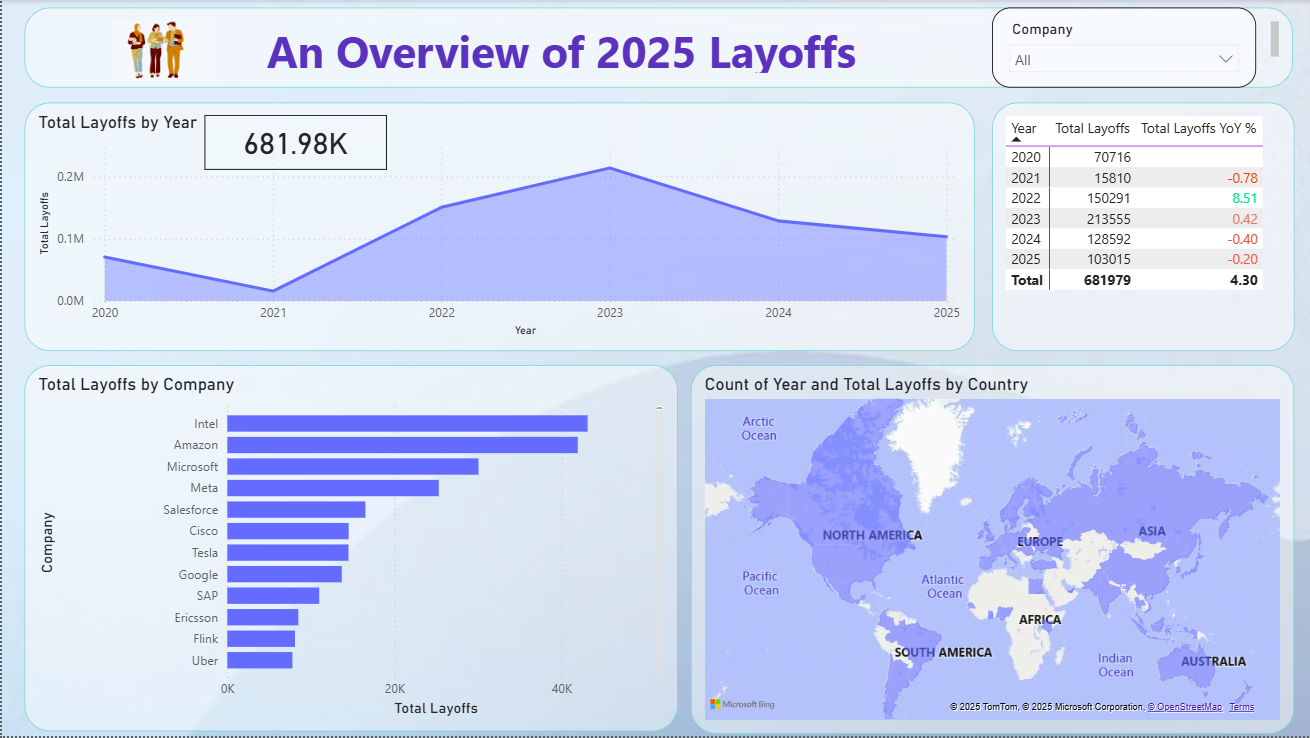

The dashboard page shown, as its layout file describes it:
{"tool":"powerbi","page":{"name":"LayOffs","canvas":[1280,720],"ordinal":0},"visuals":[{"type":"lineChart","fields":{"Category":["cleaned_layoffs_2025 csv.Year"],"Y":["cleaned_layoffs_2025 csv.Total Layoffs"]},"box":[22,100.3,929.4,243.3],"z":0},{"type":"pivotTable","fields":{"Values":["cleaned_layoffs_2025 csv.Total Layoffs","cleaned_layoffs_2025 csv.Total Layoffs % difference from 2025"],"Rows":["cleaned_layoffs_2025 csv.Year"]},"box":[968.5,100.3,295.9,243.3],"z":1000},{"type":"clusteredBarChart","fields":{"Y":["cleaned_layoffs_2025 csv.Total Layoffs"],"Category":["cleaned_layoffs_2025 csv.Company"]},"box":[22,357.1,639.5,358.3],"z":2000},{"type":"textbox","box":[22,7.3,1241.2,78.3],"z":3000},{"type":"filledMap","fields":{"Category":["cleaned_layoffs_2025 csv.Country"]},"box":[673.8,357.1,590.6,360.7],"z":4000},{"type":"image","box":[78.3,19.6,160.2,58.7],"z":5000},{"type":"slicer","fields":{"Values":["cleaned_layoffs_2025 csv.Company"]},"box":[968.5,7.3,258,78.3],"z":6000},{"type":"card","fields":{"Values":["cleaned_layoffs_2025 csv.Total Layoffs"]},"box":[198.1,112.5,178.5,53.8],"z":6001}]}

Visuals, with their boxes in screenshot pixels (x1, y1, x2, y2), scaled from the page's 1280x720 canvas onto the 1310x738 screenshot:
lineChart - cleaned_layoffs_2025 csv.Year x cleaned_layoffs_2025 csv.Total Layoffs: BBox(23, 103, 974, 352)
pivotTable - cleaned_layoffs_2025 csv.Total Layoffs x cleaned_layoffs_2025 csv.Total Layoffs % difference from 2025: BBox(991, 103, 1294, 352)
clusteredBarChart - cleaned_layoffs_2025 csv.Total Layoffs x cleaned_layoffs_2025 csv.Company: BBox(23, 366, 677, 733)
textbox: BBox(23, 7, 1293, 88)
filledMap - cleaned_layoffs_2025 csv.Country: BBox(690, 366, 1294, 736)
image: BBox(80, 20, 244, 80)
slicer - cleaned_layoffs_2025 csv.Company: BBox(991, 7, 1255, 88)
card - cleaned_layoffs_2025 csv.Total Layoffs: BBox(203, 115, 385, 170)
